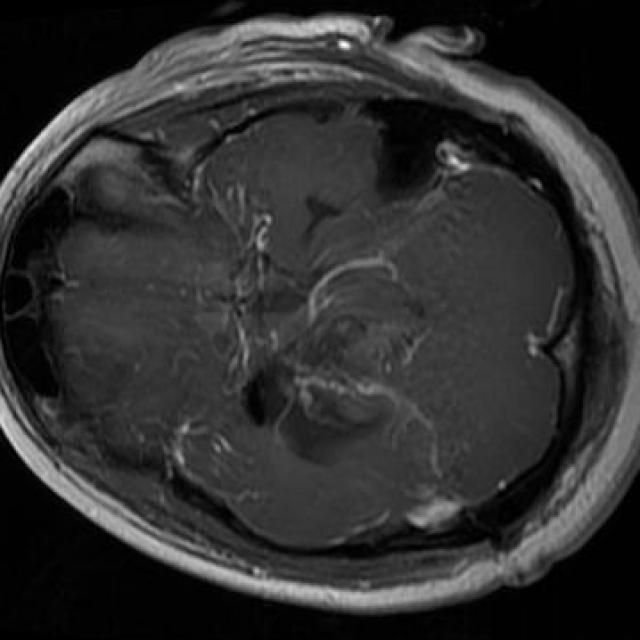glioma: (242, 258, 428, 464)
